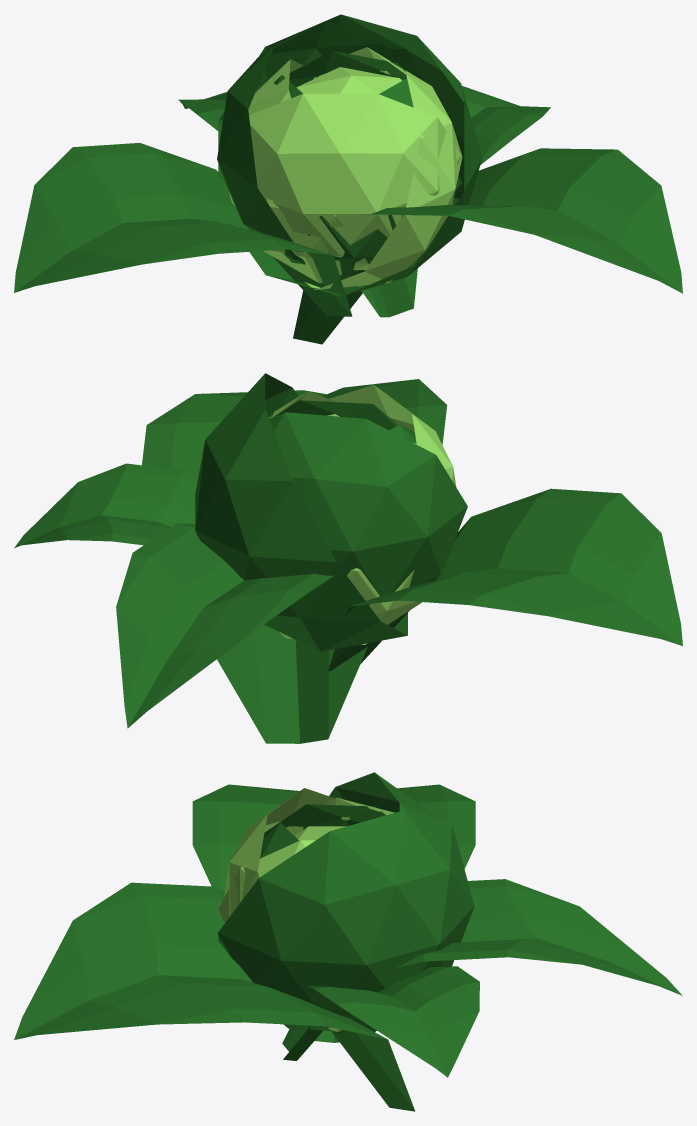
File: Cabbage_2.fbx
The picture shows the model from 3 angles, top to bottom: view 1: azimuth 30°, elevation 25°; view 2: azimuth 150°, elevation 25°; view 3: azimuth 270°, elevation 25°; orthographic projection. The views are drawn at different scales.
Visible parts, largest first — view 1: Plane, Icosphere.006, Plane.002, Icosphere.004, Icosphere.008, Icosphere.005, Plane.003, Icosphere.007, Plane.001, Icosphere.001, Icosphere, Icosphere.003 (+1 smaller); view 2: Plane, Icosphere.008, Icosphere.004, Plane.001, Plane.002, Plane.003, Icosphere.006, Icosphere.002, Icosphere.007; view 3: Icosphere.008, Plane.002, Plane.001, Plane.003, Plane, Icosphere.006, Icosphere.004, Icosphere.003, Icosphere.005, Icosphere.002.
Boxes of the visible parts, left/top/right/bottom form: Plane: left=14, top=143, right=352, bottom=316; Icosphere.006: left=249, top=93, right=460, bottom=257; Plane.002: left=293, top=148, right=682, bottom=344; Icosphere.004: left=217, top=20, right=395, bottom=252; Icosphere.008: left=218, top=14, right=482, bottom=296; Icosphere.005: left=305, top=47, right=462, bottom=289; Plane.003: left=455, top=86, right=550, bottom=190; Icosphere.007: left=229, top=59, right=369, bottom=283; Plane.001: left=178, top=92, right=417, bottom=317; Icosphere.001: left=296, top=67, right=402, bottom=93; Icosphere: left=289, top=51, right=406, bottom=87; Icosphere.003: left=249, top=75, right=396, bottom=280; Plane: left=328, top=488, right=682, bottom=670; Icosphere.008: left=195, top=373, right=407, bottom=651; Icosphere.004: left=269, top=412, right=467, bottom=596; Plane.001: left=116, top=523, right=343, bottom=728; Plane.002: left=142, top=379, right=447, bottom=743; Plane.003: left=14, top=463, right=197, bottom=547; Icosphere.006: left=329, top=385, right=456, bottom=486; Icosphere.002: left=277, top=400, right=398, bottom=430; Icosphere.007: left=347, top=443, right=422, bottom=624; Icosphere.008: left=217, top=810, right=474, bottom=1031; Plane.002: left=14, top=882, right=415, bottom=1111; Plane.001: left=282, top=879, right=682, bottom=1060; Plane.003: left=307, top=966, right=479, bottom=1077; Plane: left=192, top=784, right=475, bottom=1042; Icosphere.006: left=224, top=788, right=334, bottom=916; Icosphere.004: left=329, top=772, right=437, bottom=819; Icosphere.003: left=263, top=804, right=385, bottom=837; Icosphere.005: left=218, top=840, right=341, bottom=1031; Icosphere.002: left=260, top=822, right=298, bottom=858.
Bounding box in the file's own units: 632 × 332 × 650.
